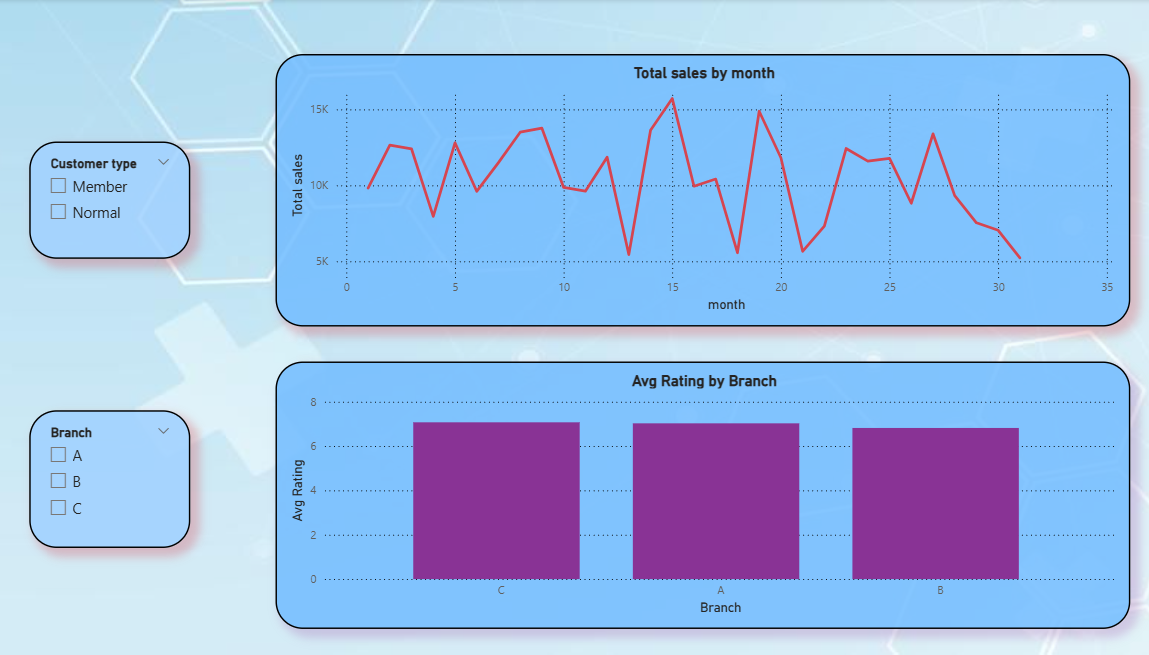

The page's visual inventory and layout, read from the dashboard file:
{"tool":"powerbi","page":{"name":"month vs rating","canvas":[1280,720],"ordinal":1},"visuals":[{"type":"columnChart","fields":{"Category":["supermarket_sales.Branch"],"Y":["supermarket_sales.Avg Rating"]},"box":[315.6,397.9,938.6,293.7],"z":0},{"type":"lineChart","fields":{"Y":["supermarket_sales.Total sales"],"Category":["supermarket_sales.month"]},"box":[315.6,60.4,938.6,299.1],"z":1000},{"type":"slicer","fields":{"Values":["supermarket_sales.Branch"]},"box":[45.3,451.5,177,150.9],"z":2000},{"type":"slicer","fields":{"Values":["supermarket_sales.Customer type"]},"box":[45.3,156.4,177,129],"z":3000}]}

Visuals, with their boxes in screenshot pixels (x1, y1, x2, y2), scaled from the page's 1280x720 canvas onto the 1149x655 screenshot:
columnChart - supermarket_sales.Branch x supermarket_sales.Avg Rating: (283,362,1126,629)
lineChart - supermarket_sales.Total sales x supermarket_sales.month: (283,55,1126,327)
slicer - supermarket_sales.Branch: (41,411,200,548)
slicer - supermarket_sales.Customer type: (41,142,200,260)
